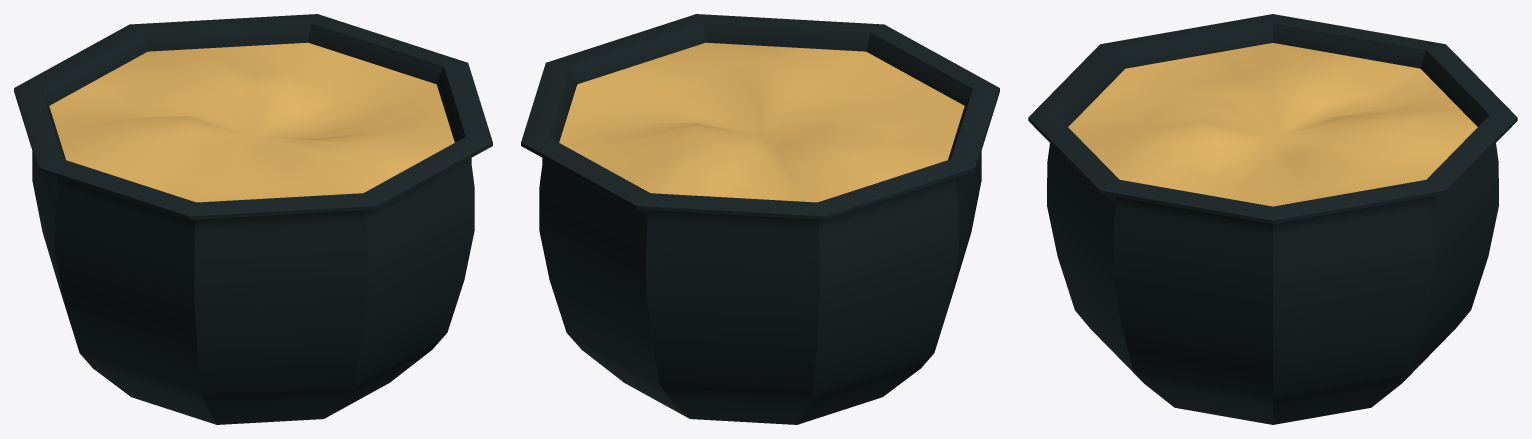
Rendered from SM_Cauldron_02.fbx.
3 renders of one model, left to right at view 1: azimuth 30°, elevation 25°; view 2: azimuth 150°, elevation 25°; view 3: azimuth 270°, elevation 25°, orthographic.
Visible parts, largest first — view 1: Cauldron; view 2: Cauldron; view 3: Cauldron.
Part boxes in pixels (left/top/right/bottom): Cauldron: left=14, top=14, right=492, bottom=424; Cauldron: left=521, top=14, right=999, bottom=424; Cauldron: left=1028, top=14, right=1517, bottom=424.
Bounding box in the file's own units: 62.24 × 35.28 × 62.24.
